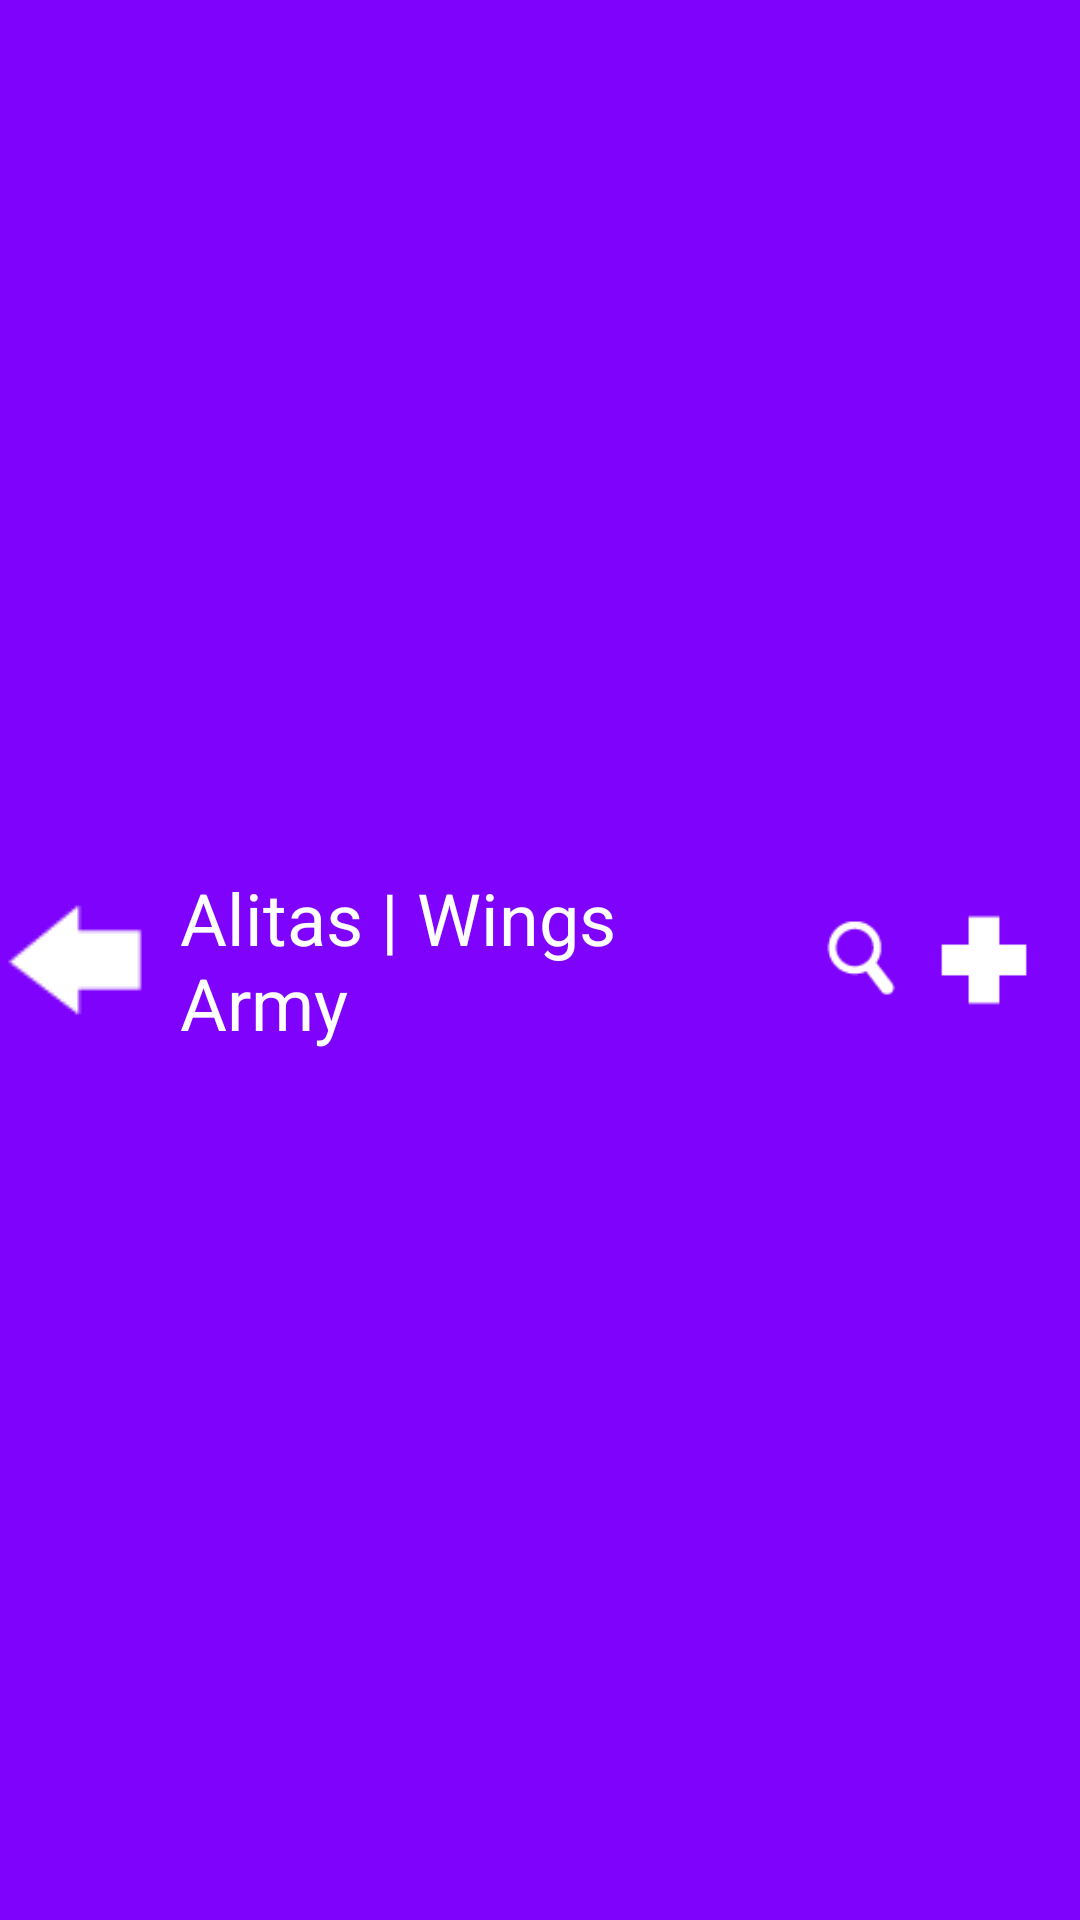

Named icons in this screenshot (1080w x 1920h) and their bounding boxes, detection(x1, y1, x2, y2):
back: detection(8, 905, 142, 1015)
lupa search: detection(827, 921, 895, 995)
plus: detection(941, 915, 1027, 1005)
